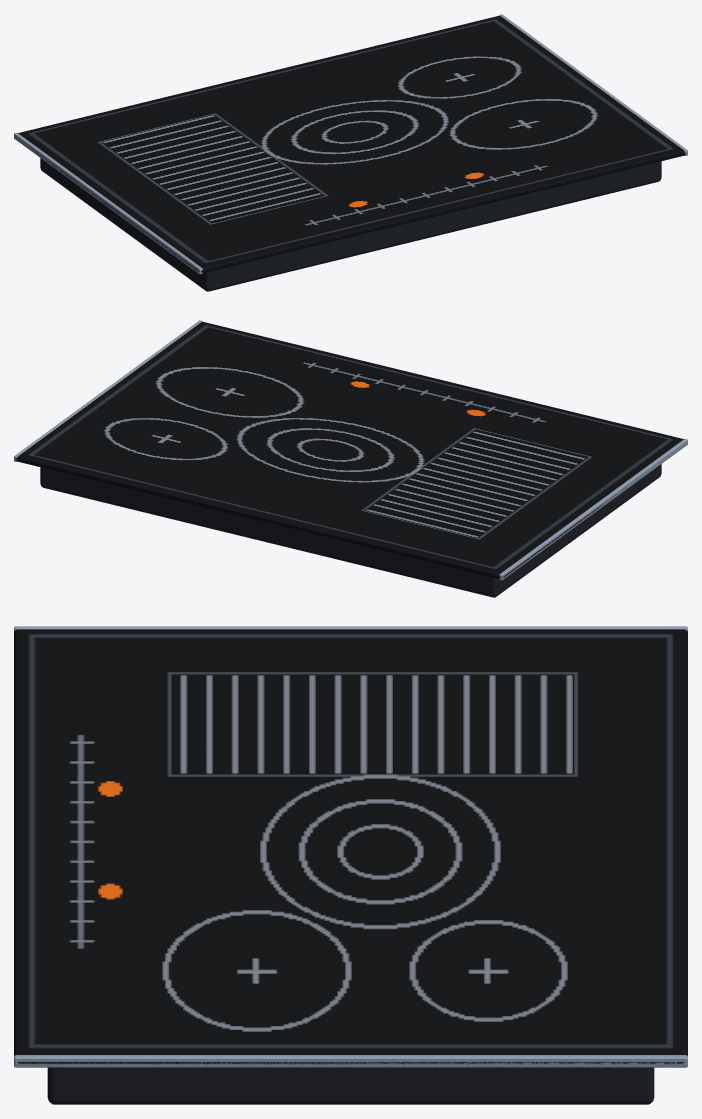
Rendered from obj_cooktop_ind_800.glb.
The picture shows the model from 3 angles, top to bottom: view 1: azimuth 30°, elevation 25°; view 2: azimuth 150°, elevation 25°; view 3: azimuth 270°, elevation 25°; orthographic projection. The views are drawn at different scales.
Parts seen in each view (by area): view 1: obj_cooktop_ind_800; view 2: obj_cooktop_ind_800; view 3: obj_cooktop_ind_800.
Boxes of the visible parts, box(x1,y1,x2,y2) form: obj_cooktop_ind_800: box(14, 14, 687, 291); obj_cooktop_ind_800: box(14, 320, 687, 597); obj_cooktop_ind_800: box(14, 626, 687, 1104).
Bounding box in the file's own units: 0.792 × 0.055 × 0.522.
Materials: 4 (1 with a texture image).
